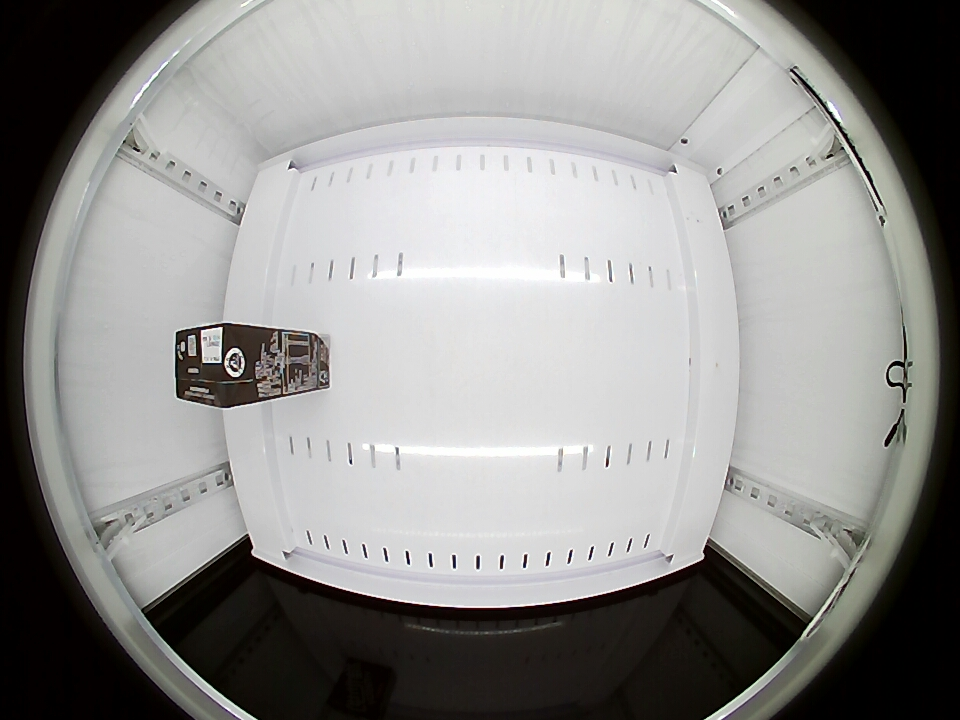weitanai2: (174, 325, 265, 408)
